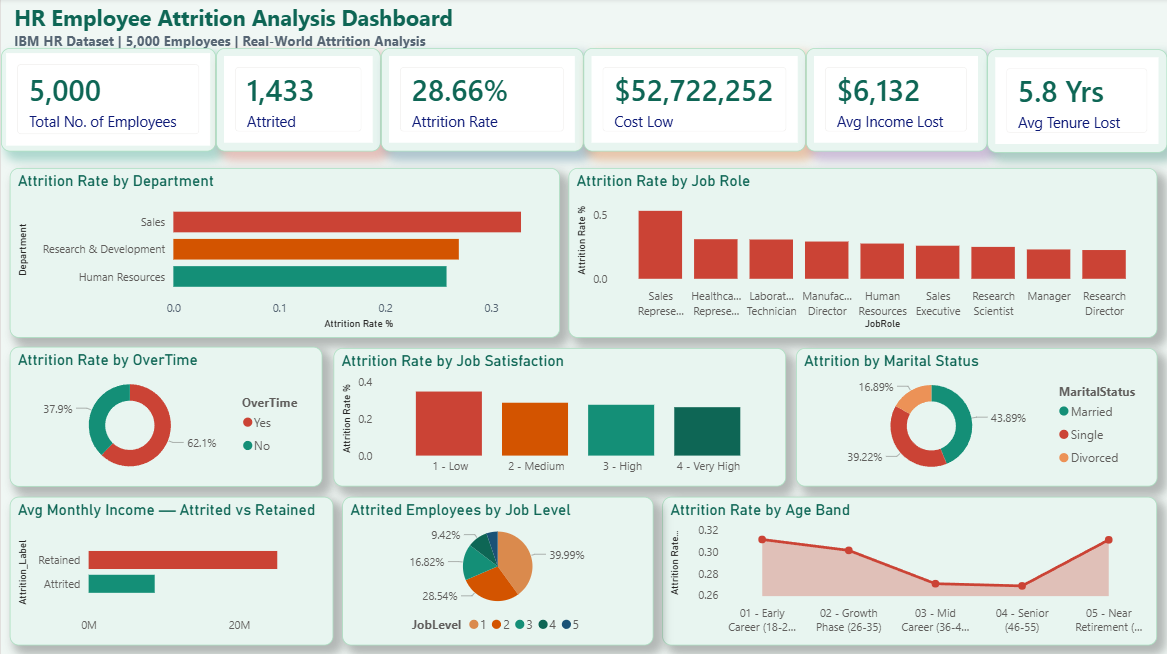

The page's visual inventory and layout, read from the dashboard file:
{"tool":"powerbi","page":{"name":"Page 1","canvas":[1280,720],"ordinal":0},"visuals":[{"type":"textbox","box":[9.6,0,495.4,64.5],"z":0},{"type":"cardVisual","fields":{"Data":["Employees.Total Employees Display"]},"box":[0,54.9,236,113.9],"z":1000},{"type":"cardVisual","fields":{"Data":["Employees.Attrited Display"]},"box":[236,54.9,181.1,113.9],"z":2000},{"type":"cardVisual","fields":{"Data":["Employees.Attrition Rate Display"]},"box":[417.2,54.9,222.3,113.9],"z":3000},{"type":"cardVisual","fields":{"Data":["Employees.Cost Low Display"]},"box":[639.5,54.9,244.3,113.9],"z":4000},{"type":"cardVisual","fields":{"Data":["Employees.Avg Income Lost Display"]},"box":[883.7,54.9,199,113.9],"z":5000},{"type":"cardVisual","fields":{"Data":["Employees.Avg Tenure Lost Display"]},"box":[1082.7,56.3,197.6,113.9],"z":6000},{"type":"clusteredBarChart","title":"Attrition Rate by Department","fields":{"Category":["Employees.Department"],"Y":["Employees.Attrition Rate %"]},"box":[9.6,186.6,603.8,186.6],"z":7000},{"type":"clusteredColumnChart","title":"Attrition Rate by Job Role","fields":{"Category":["Employees.JobRole"],"Y":["Employees.Attrition Rate %"]},"box":[623,186.6,646.3,186.6],"z":8000},{"type":"donutChart","title":"Attrition Rate by OverTime","fields":{"Category":["Employees.OverTime"],"Y":["Employees.Attrition Rate %"]},"box":[9.6,382.8,343.1,153.7],"z":9000},{"type":"clusteredColumnChart","title":"Attrition Rate by Job Satisfaction","fields":{"Category":["Employees.JobSatisfaction_Label"],"Y":["Employees.Attrition Rate %"]},"box":[365,384.2,496.7,152.3],"z":10000},{"type":"donutChart","title":"Attrition by Marital Status","fields":{"Y":["Employees.Attrited Employees"],"Category":["Employees.MaritalStatus"]},"box":[872.7,384.2,396.6,152.3],"z":11000},{"type":"clusteredBarChart","title":"Avg Monthly Income — Attrited vs Retained","fields":{"Y":["Sum(Employees.MonthlyIncome)"],"Category":["Employees.Attrition_Label"]},"box":[9.6,547.5,355.4,163.3],"z":12000},{"type":"areaChart","title":"Attrition Rate by Age Band","fields":{"Category":["Employees.Age_Band"],"Y":["Employees.Attrition Rate %"]},"box":[725.9,547.5,543.4,163.3],"z":13000},{"type":"pieChart","title":"Attrited Employees by Job Level","fields":{"Category":["Employees.JobLevel"],"Y":["Employees.Attrited Employees"]},"box":[374.6,547.5,341.7,163.3],"z":13001}]}

Visuals, with their boxes in screenshot pixels (x1, y1, x2, y2), scaled from the page's 1280x720 canvas onto the 1167x654 screenshot:
textbox: (left=9, top=0, right=460, bottom=59)
cardVisual - Employees.Total Employees Display: (left=0, top=50, right=215, bottom=153)
cardVisual - Employees.Attrited Display: (left=215, top=50, right=380, bottom=153)
cardVisual - Employees.Attrition Rate Display: (left=380, top=50, right=583, bottom=153)
cardVisual - Employees.Cost Low Display: (left=583, top=50, right=806, bottom=153)
cardVisual - Employees.Avg Income Lost Display: (left=806, top=50, right=987, bottom=153)
cardVisual - Employees.Avg Tenure Lost Display: (left=987, top=51, right=1166, bottom=155)
"Attrition Rate by Department" clusteredBarChart: (left=9, top=169, right=559, bottom=339)
"Attrition Rate by Job Role" clusteredColumnChart: (left=568, top=169, right=1157, bottom=339)
"Attrition Rate by OverTime" donutChart: (left=9, top=348, right=322, bottom=487)
"Attrition Rate by Job Satisfaction" clusteredColumnChart: (left=333, top=349, right=786, bottom=487)
"Attrition by Marital Status" donutChart: (left=796, top=349, right=1157, bottom=487)
"Avg Monthly Income — Attrited vs Retained" clusteredBarChart: (left=9, top=497, right=333, bottom=646)
"Attrition Rate by Age Band" areaChart: (left=662, top=497, right=1157, bottom=646)
"Attrited Employees by Job Level" pieChart: (left=342, top=497, right=653, bottom=646)
